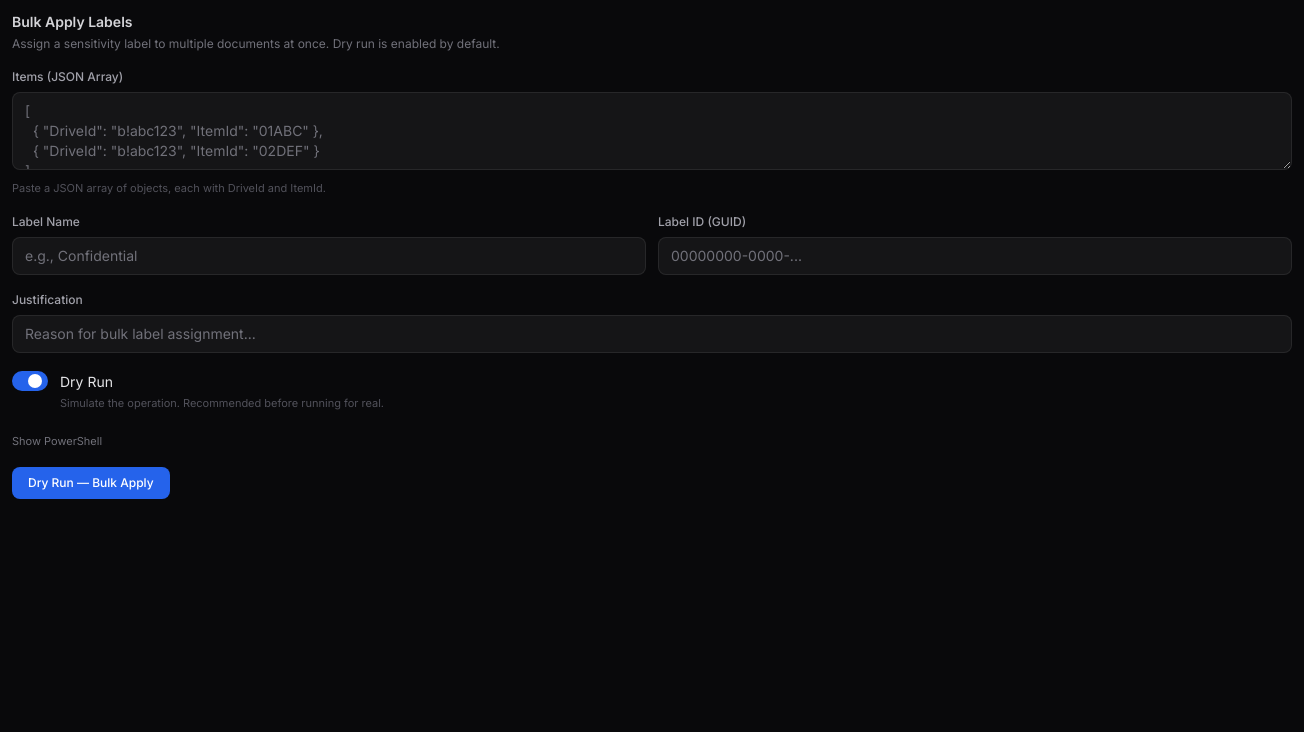
Test: DocumentLabelBulk › shows error when items JSON is invalid
Step 1. Type "not valid json" into the text box with placeholder "DriveId" → point(652, 131), box [12, 92, 1292, 170]
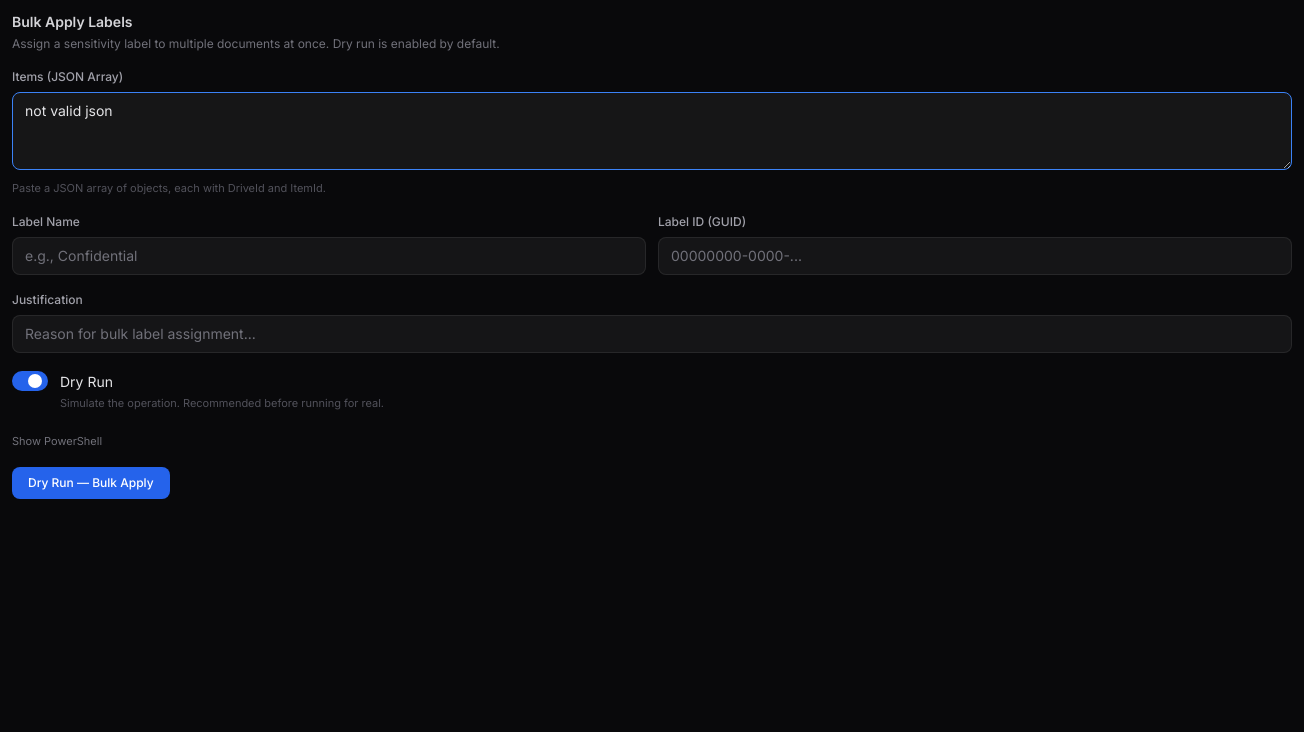
Step 2. Type "Secret" into the field with placeholder "e.g., Confidential" → point(329, 256), box [12, 236, 646, 274]
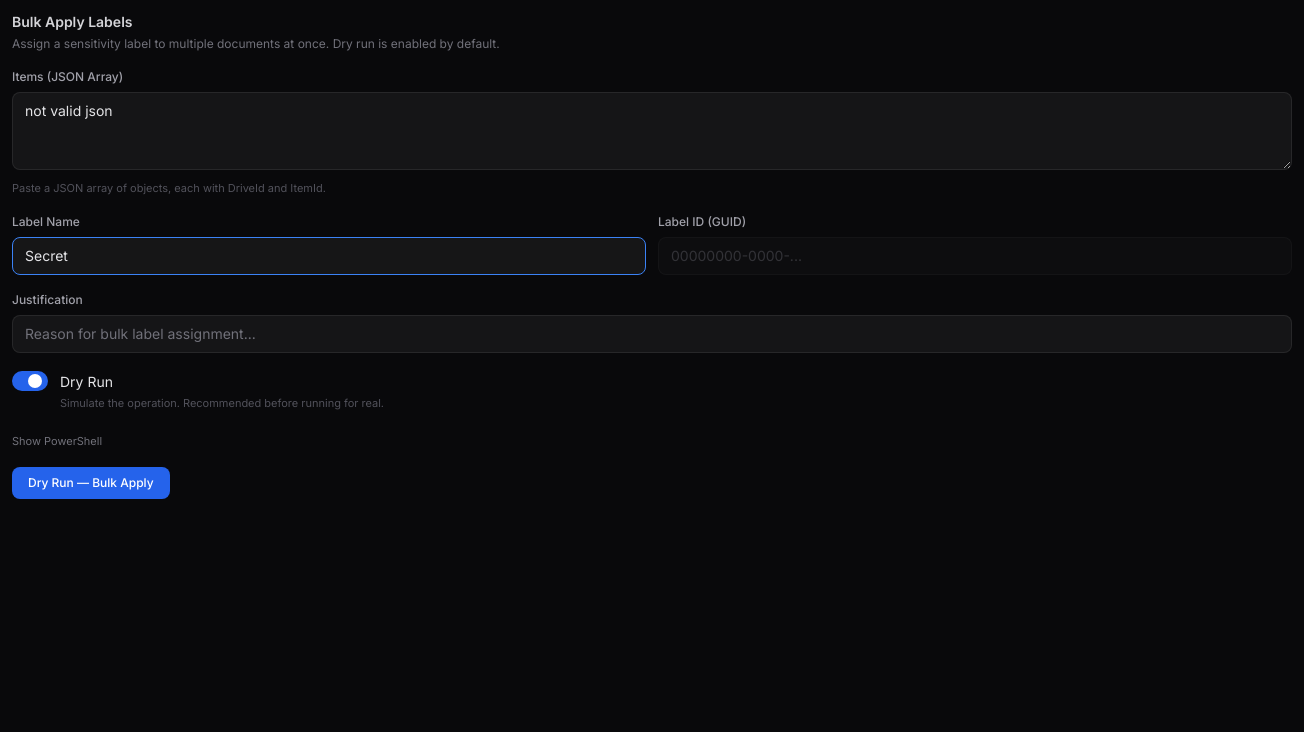
Step 3. Click the button "Dry Run — Bulk Apply" → point(91, 483), box [12, 467, 170, 499]
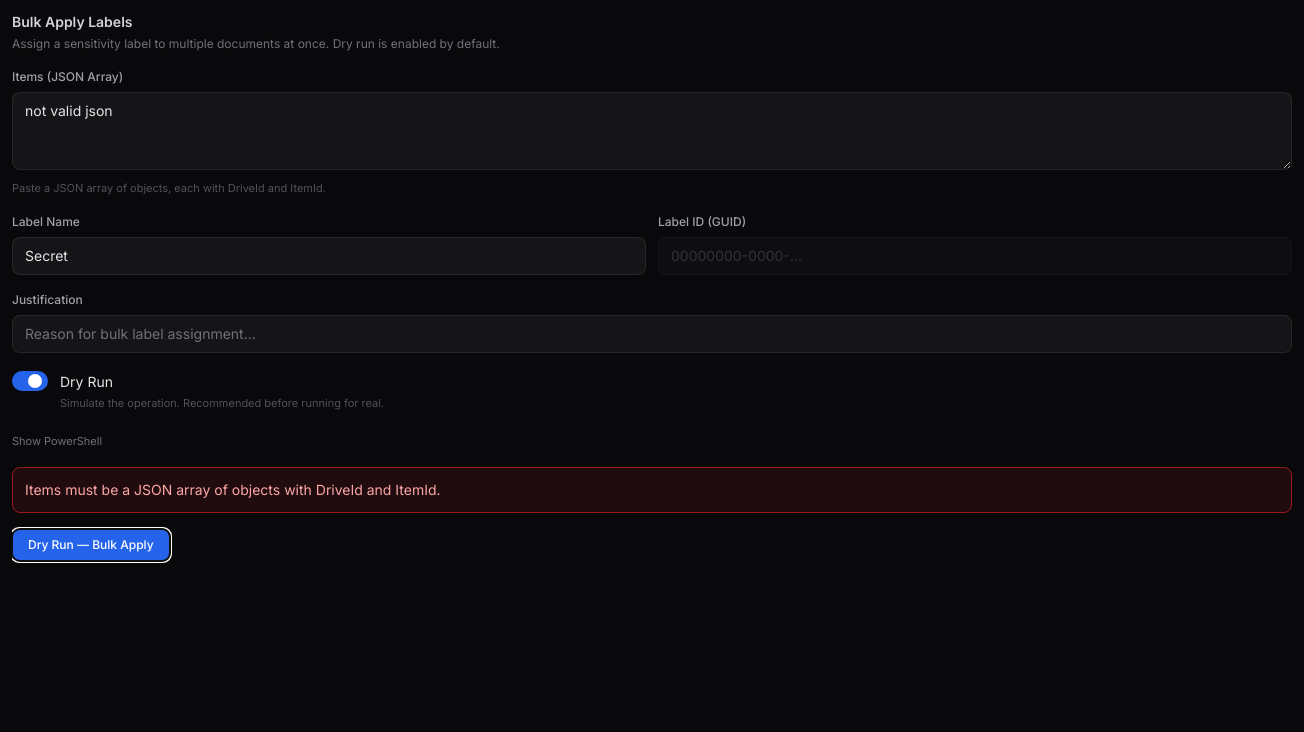
Now the text "Items must be a JSON array of objects with DriveId and ItemId." is shown, box [12, 467, 1292, 513]
